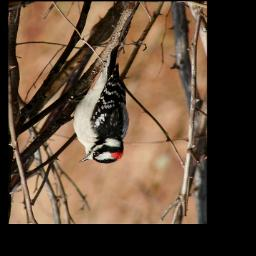Woodpecker: (69, 43, 129, 164)
